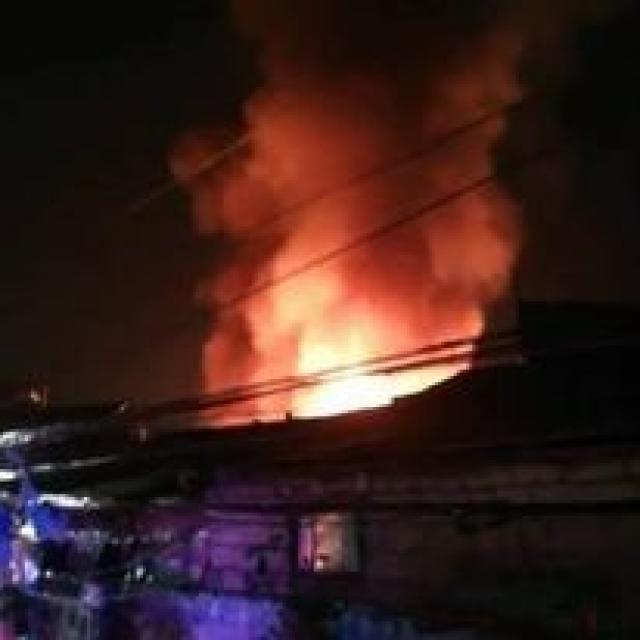Fire: (295, 300, 445, 421)
Smoke: (184, 0, 536, 435)
